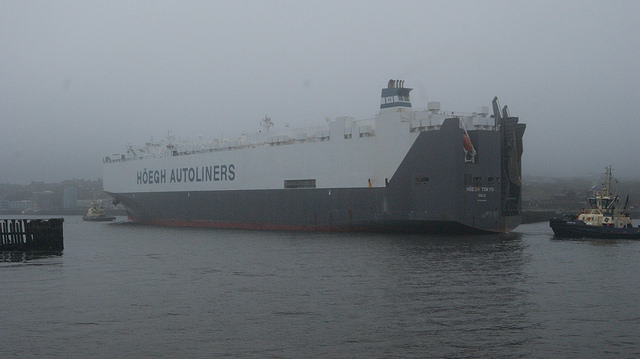PCC: (104, 78, 524, 230)
tug_boat: (551, 167, 640, 246), (81, 200, 115, 227)
